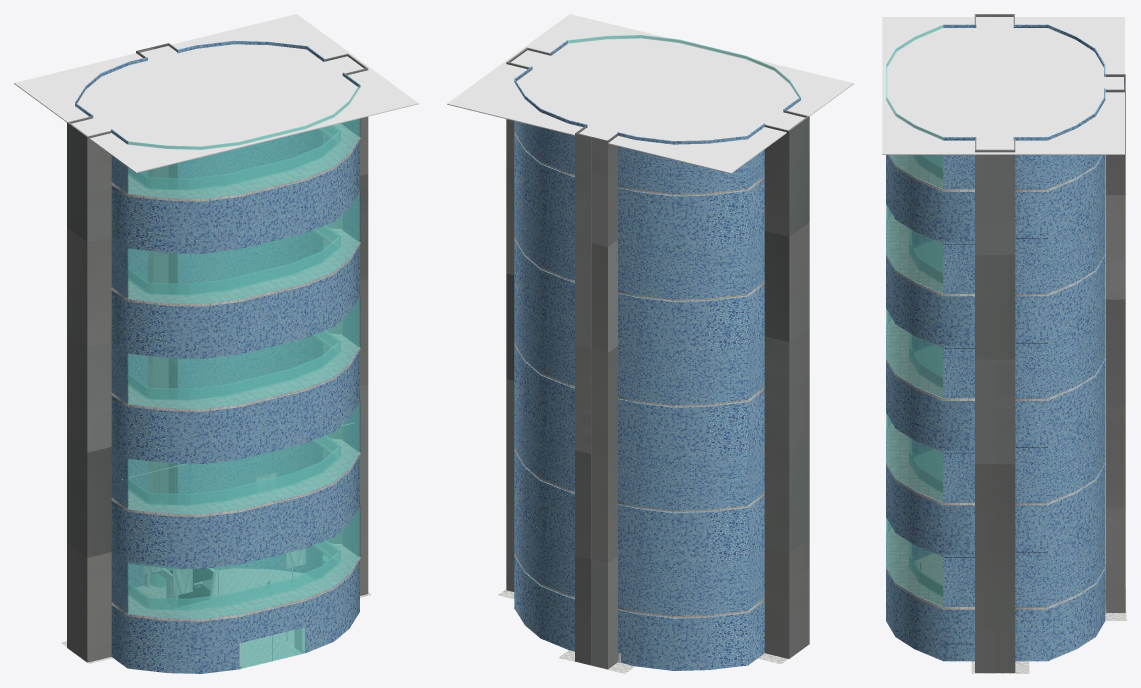
The model's file is Recepcion V1.FBX.
The picture shows the model from 3 angles, left to right: view 1: azimuth 30°, elevation 25°; view 2: azimuth 150°, elevation 25°; view 3: azimuth 270°, elevation 25°; orthographic projection.
Visible parts, largest first — view 1: Box021, Pared004, Pared005, Pared003, Pared006, Pared, Pared cristal 1, Pared cristal 002, Pared cristal 004, Pared cristal 003, Pared cristal 005, Box013 (+30 smaller); view 2: Box021, Pared, Pared cristal001, Pared cristal003, Pared cristal002, Pared cristal, Pared005, Pared004, Pared006, Pared003, Pared cristal004, Box005 (+16 smaller); view 3: Box021, Pared, Pared005, Pared004, Pared003, Pared006, Pared cristal002, Pared cristal003, Pared cristal, Pared cristal001, Pared cristal004, Box012 (+24 smaller).
Boxes of the visible parts, x1=… form: Box021: x1=14, y1=14, x2=418, y2=172; Pared004: x1=111, y1=336, x2=359, y2=463; Pared005: x1=111, y1=231, x2=359, y2=358; Pared003: x1=111, y1=441, x2=359, y2=569; Pared006: x1=111, y1=129, x2=359, y2=253; Pared: x1=111, y1=546, x2=359, y2=673; Pared cristal 1: x1=127, y1=508, x2=359, y2=619; Pared cristal 002: x1=127, y1=403, x2=359, y2=514; Pared cristal 004: x1=127, y1=192, x2=359, y2=304; Pared cristal 003: x1=127, y1=297, x2=359, y2=409; Pared cristal 005: x1=127, y1=85, x2=359, y2=198; Box013: x1=67, y1=333, x2=111, y2=452; Box021: x1=447, y1=14, x2=853, y2=173; Pared: x1=514, y1=556, x2=764, y2=670; Pared cristal001: x1=514, y1=396, x2=764, y2=510; Pared cristal003: x1=514, y1=185, x2=764, y2=299; Pared cristal002: x1=514, y1=291, x2=764, y2=405; Pared cristal: x1=514, y1=501, x2=764, y2=615; Pared005: x1=514, y1=240, x2=764, y2=354; Pared004: x1=514, y1=345, x2=764, y2=459; Pared006: x1=514, y1=134, x2=764, y2=248; Pared003: x1=514, y1=451, x2=764, y2=563; Pared cristal004: x1=514, y1=40, x2=800, y2=193; Box005: x1=764, y1=538, x2=809, y2=658; Box021: x1=882, y1=17, x2=1124, y2=154; Pared: x1=886, y1=544, x2=1105, y2=661; Pared005: x1=886, y1=230, x2=1105, y2=347; Pared004: x1=886, y1=335, x2=1105, y2=452; Pared003: x1=886, y1=439, x2=1105, y2=556; Pared006: x1=886, y1=155, x2=1105, y2=243; Pared cristal002: x1=886, y1=306, x2=1105, y2=398; Pared cristal003: x1=886, y1=202, x2=1105, y2=293; Pared cristal: x1=886, y1=515, x2=1105, y2=606; Pared cristal001: x1=886, y1=411, x2=1105, y2=502; Pared cristal004: x1=890, y1=24, x2=1105, y2=189; Box012: x1=975, y1=359, x2=1015, y2=464.
Size of the model in its own units: 1192 by 2111 by 889.
Materials: 18 (10 with a texture image).
